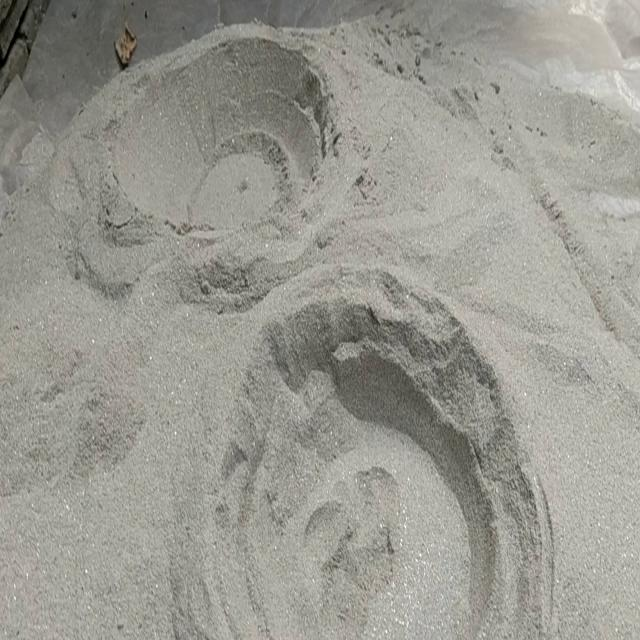C20: (214, 271, 552, 636), (105, 38, 330, 229)
